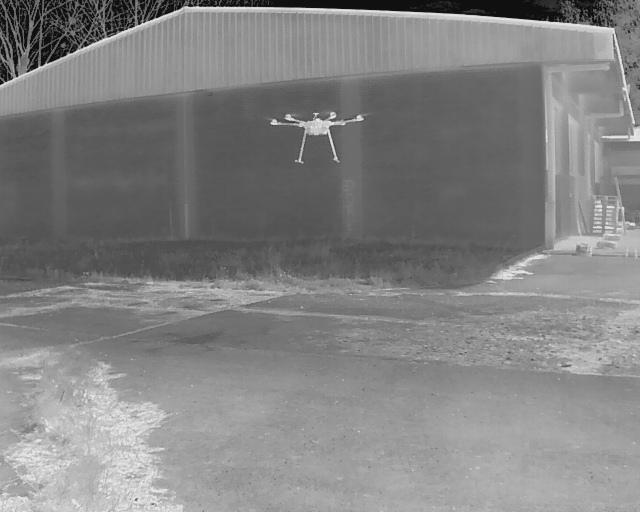drone: (258, 114, 356, 174)
